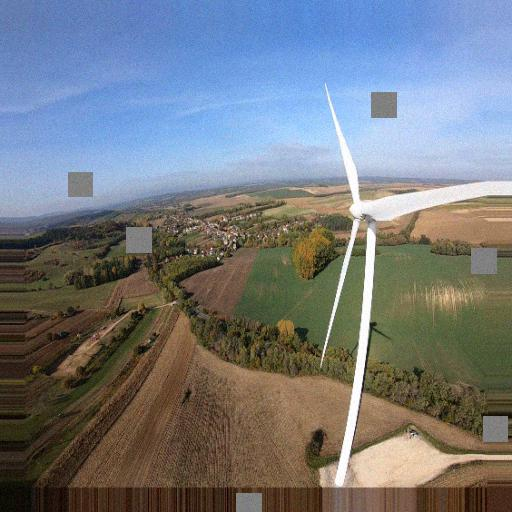wind turbine: (322, 79, 512, 484)
